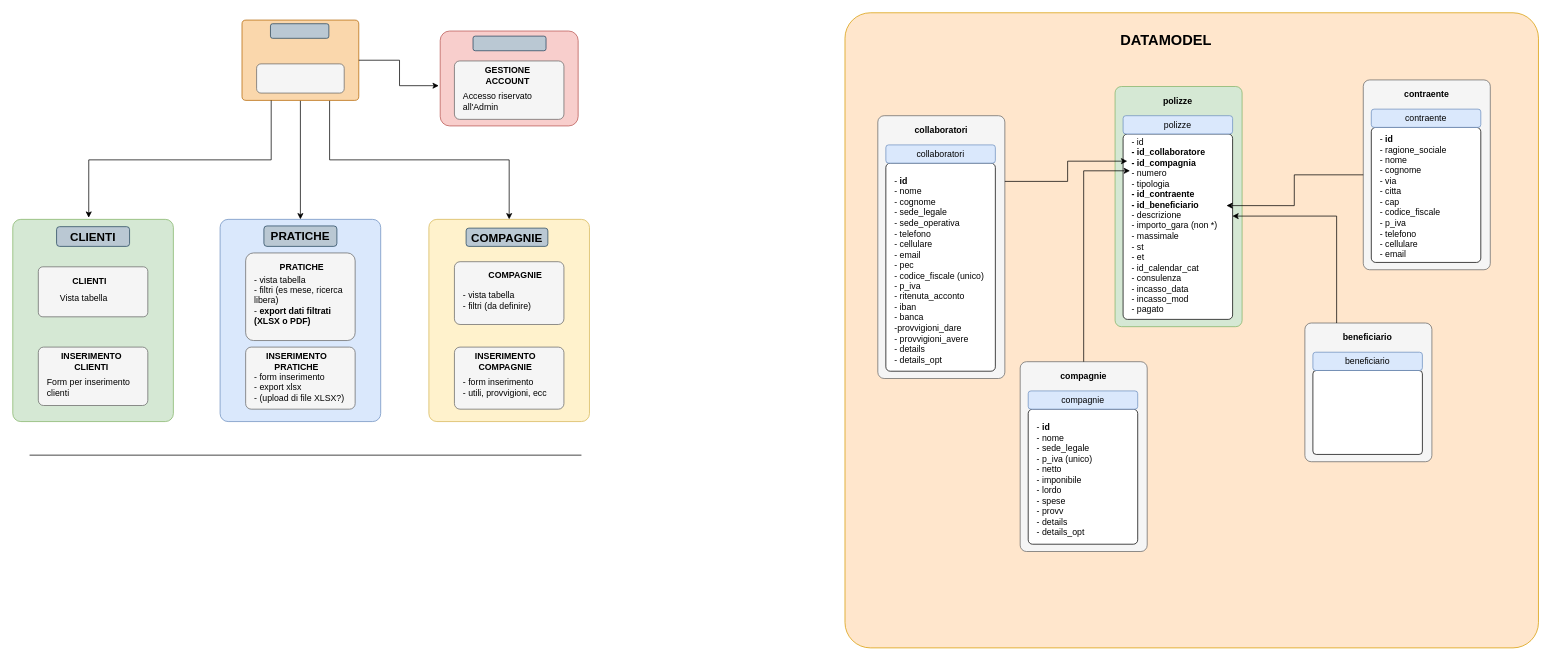
Some shapes in this 1551 by 661 pixel diagram are drawn without their labels. Each missing label, with the centre of its shape:
- id - ragione_sociale - via - citta - cap - codice_fiscale - p_iva: the point at 1367,412
ACCOUNT: the point at 509,43
CALENDARIO: the point at 300,78
HOME: the point at 299,30
